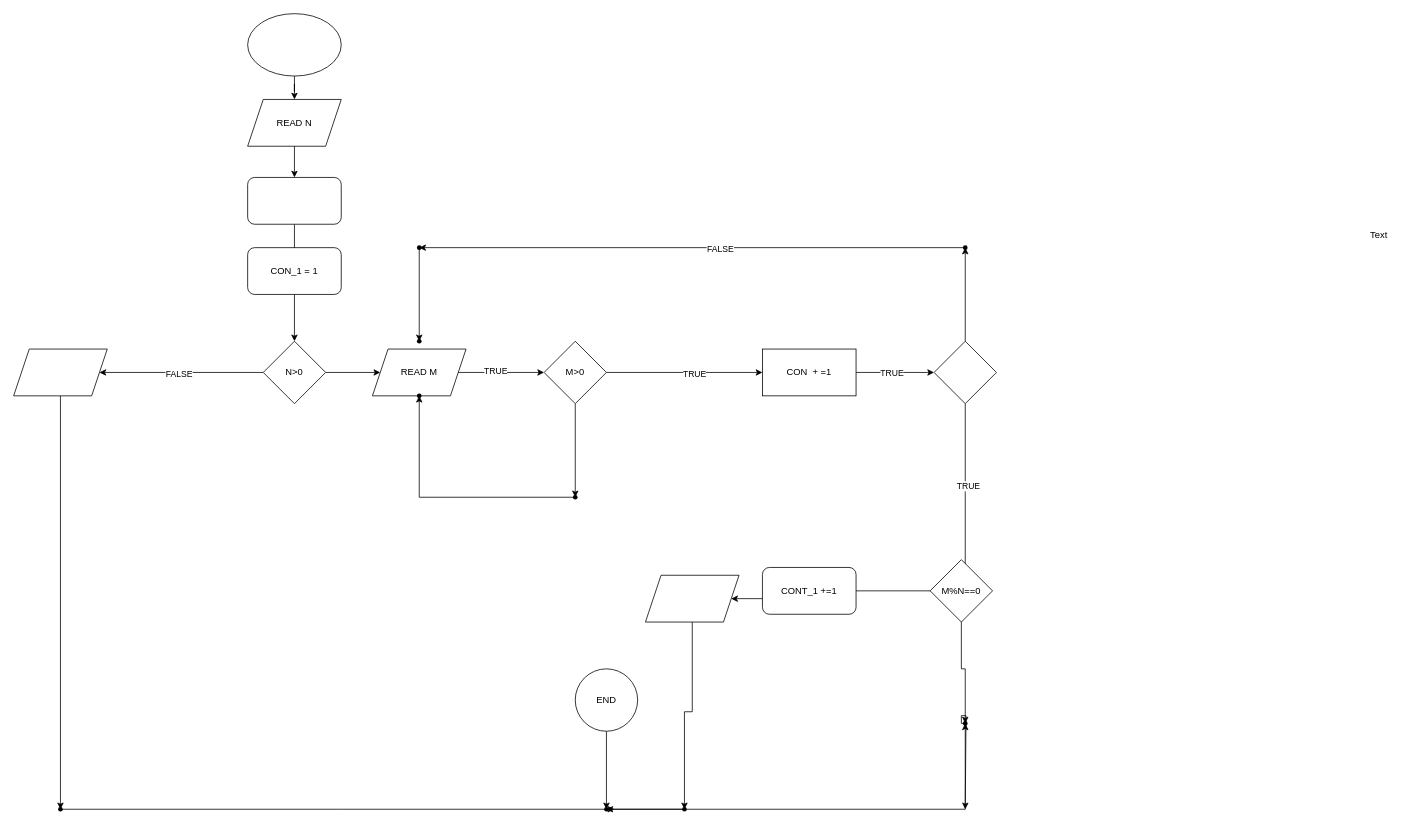
This 1412x831 diagram has some shape labels left out. The shapes that lost their labels are listed below. From the top down, each one's centre as x and y in pixels, then its label:
(294,44): START
(294,200): CON = 1
(60,372): WRITE " errore"
(964,372): CON >10
(692,598): WRITE COUNT_1
